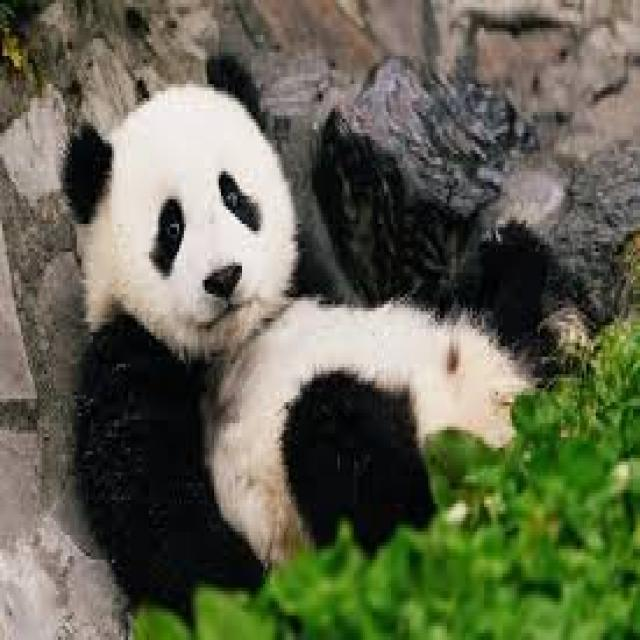Panda: (62, 57, 559, 598)
